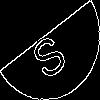S: (25, 25, 70, 82)
